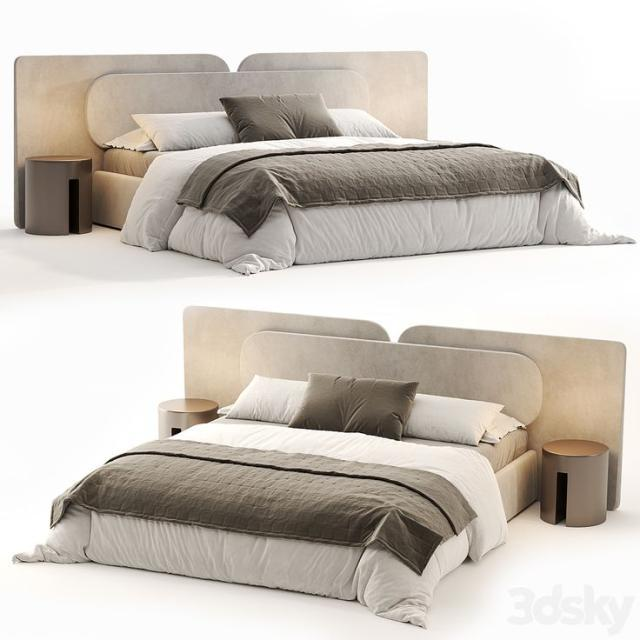obstacle: (12, 304, 626, 628), (12, 49, 635, 274), (539, 438, 609, 527), (158, 397, 218, 440)
